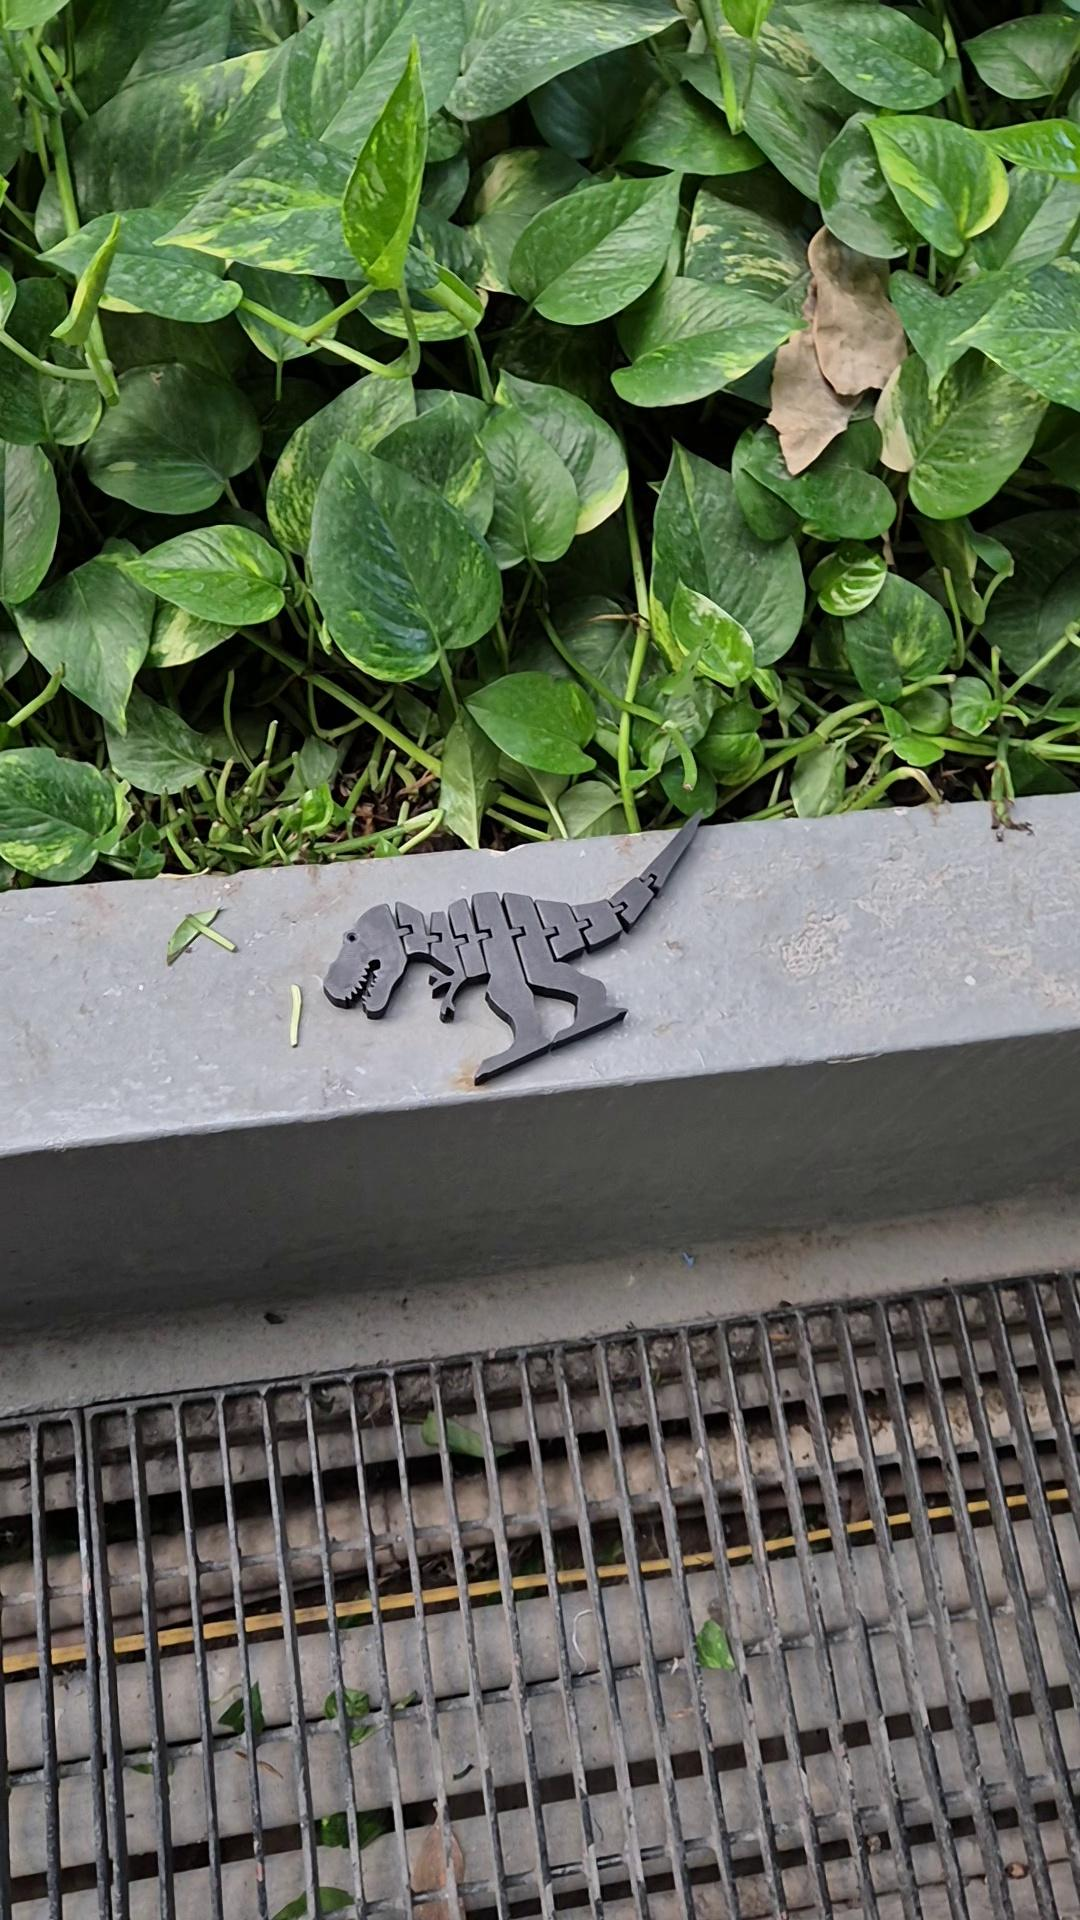dinosaur: (320, 807, 707, 1089)
